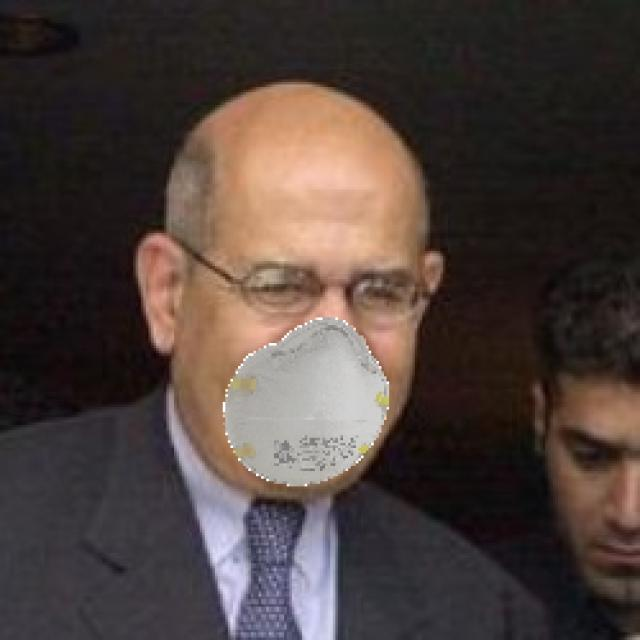mask: (205, 294, 390, 490)
